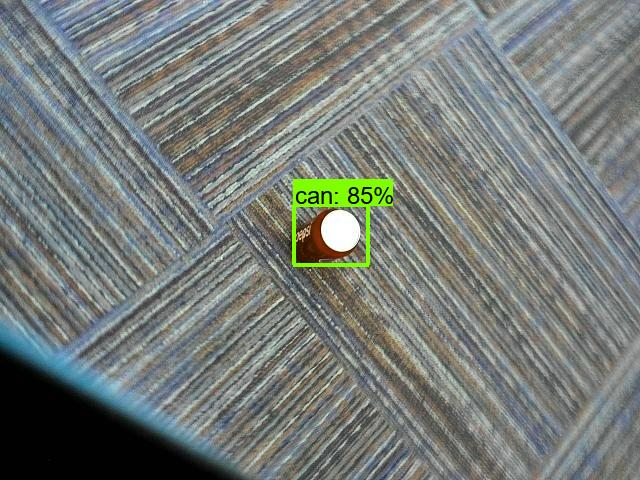can: (290, 201, 364, 276)
